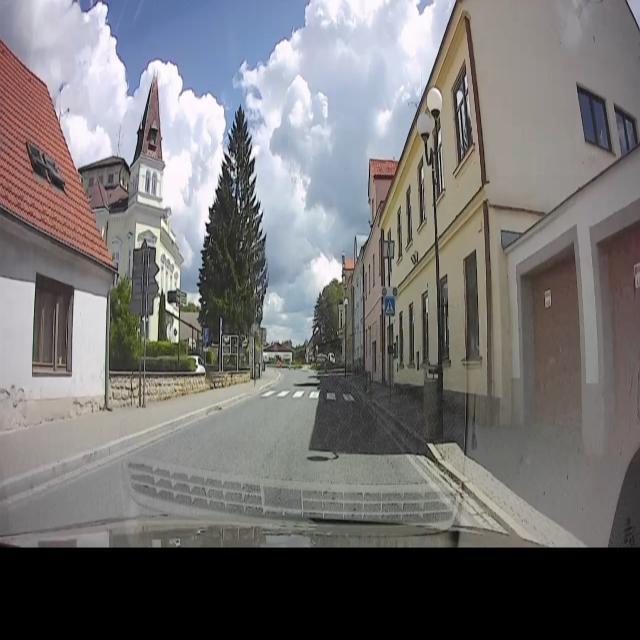Pedestrian crosswalk: (259, 388, 357, 402), (382, 287, 398, 319)
